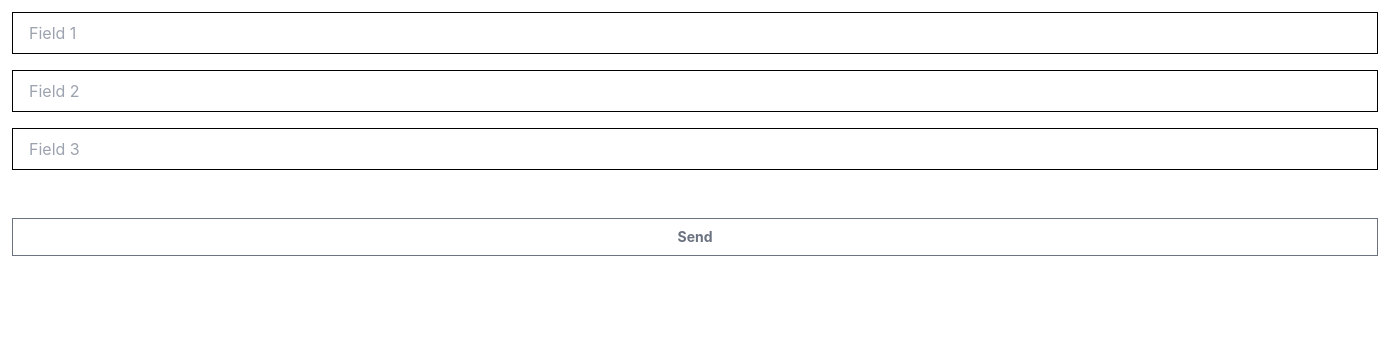
Test: <Form /> › should display validation error messages
Click the button at (695, 237), box left=12, top=218, right=1378, bottom=256
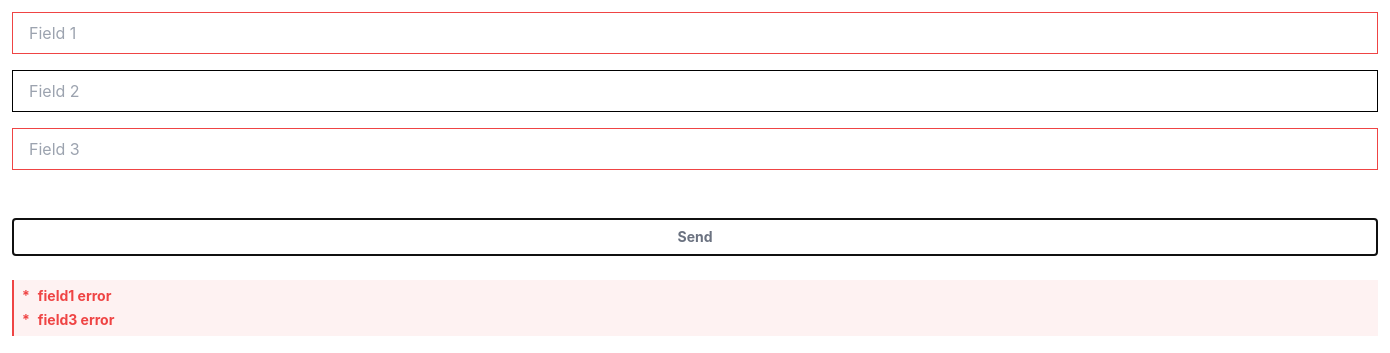
expect the message shows "field1 error": met, box left=38, top=287, right=111, bottom=304
expect the message shows "field3 error": met, box left=38, top=311, right=114, bottom=328
